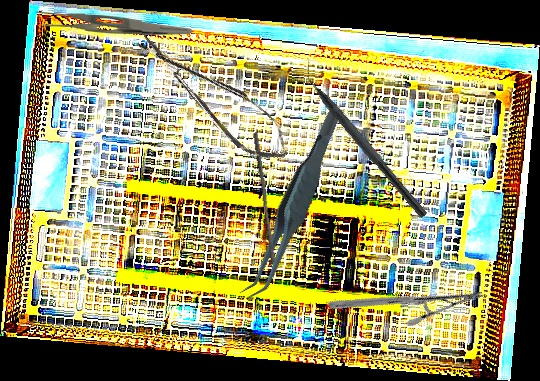Chopper: (292, 55, 438, 220)
Dressing Forceps: (34, 8, 193, 36)
Micro Scissor: (129, 18, 299, 175)
Needle Holder: (326, 228, 486, 372)
Pusher: (247, 132, 281, 264)
Tissue Forceps: (208, 105, 379, 306)
